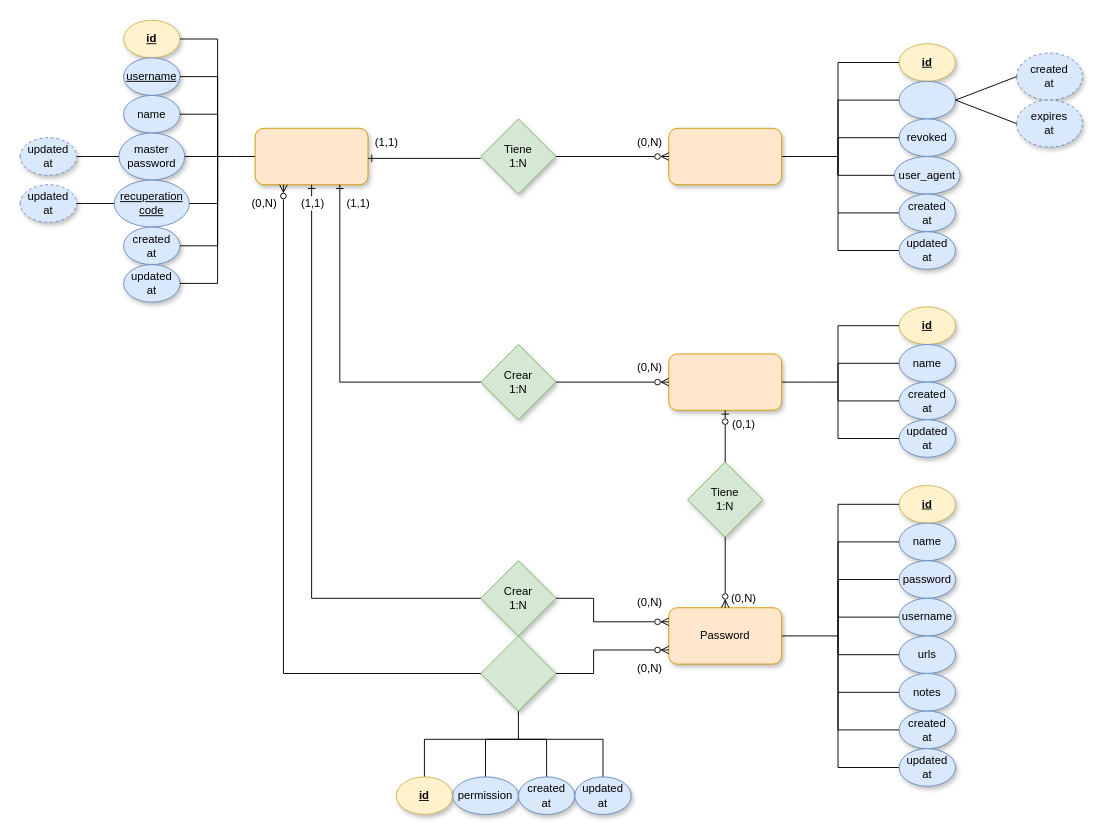
Some shapes in this 1105 by 838 pixel diagram are drawn without their labels. The centre of each missing label's shape, as x and y in pixels:
Compartir N:M: pixel 519 674
Folder: pixel 725 383
Session: pixel 725 157
token: pixel 927 101
User: pixel 312 157
